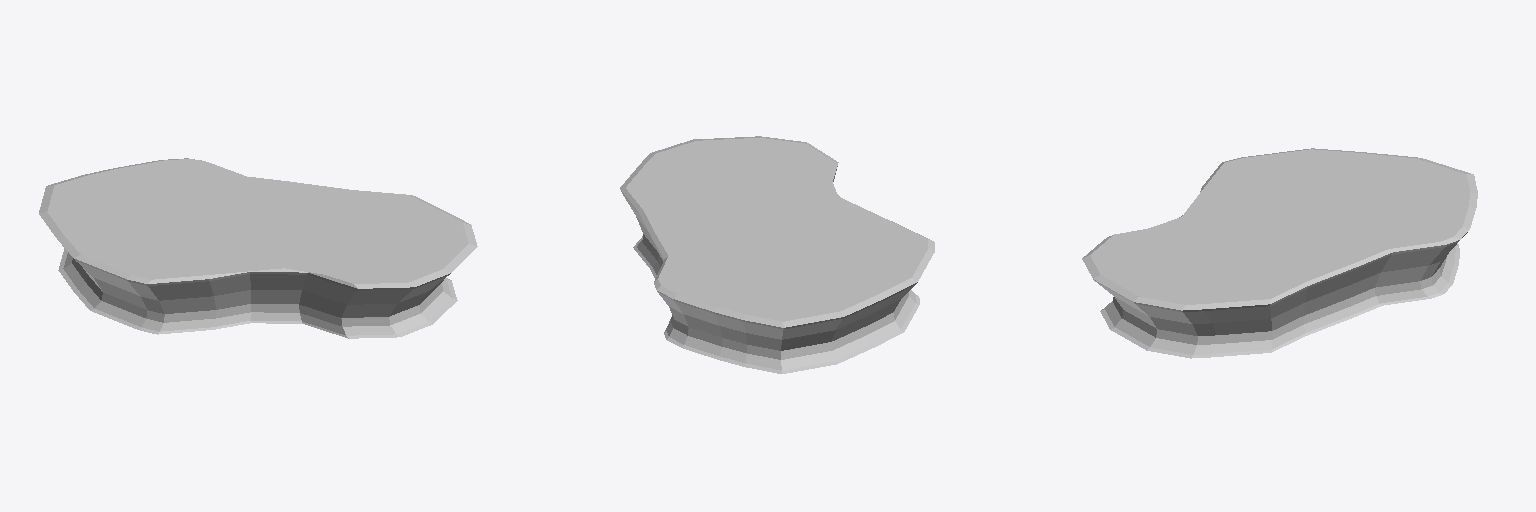
File: platform_03.obj
3 views of the same model, side by side, from view 1: azimuth 30°, elevation 25°; view 2: azimuth 150°, elevation 25°; view 3: azimuth 270°, elevation 25° (orthographic).
Parts seen in each view (by area): view 1: platform_03_Cube.009; view 2: platform_03_Cube.009; view 3: platform_03_Cube.009.
Part boxes in pixels (left/top/right/bottom): platform_03_Cube.009: left=39, top=158, right=477, bottom=338; platform_03_Cube.009: left=620, top=136, right=934, bottom=373; platform_03_Cube.009: left=1082, top=148, right=1477, bottom=358.
Size of the model in its own units: 37.84 by 6.27 by 39.05.